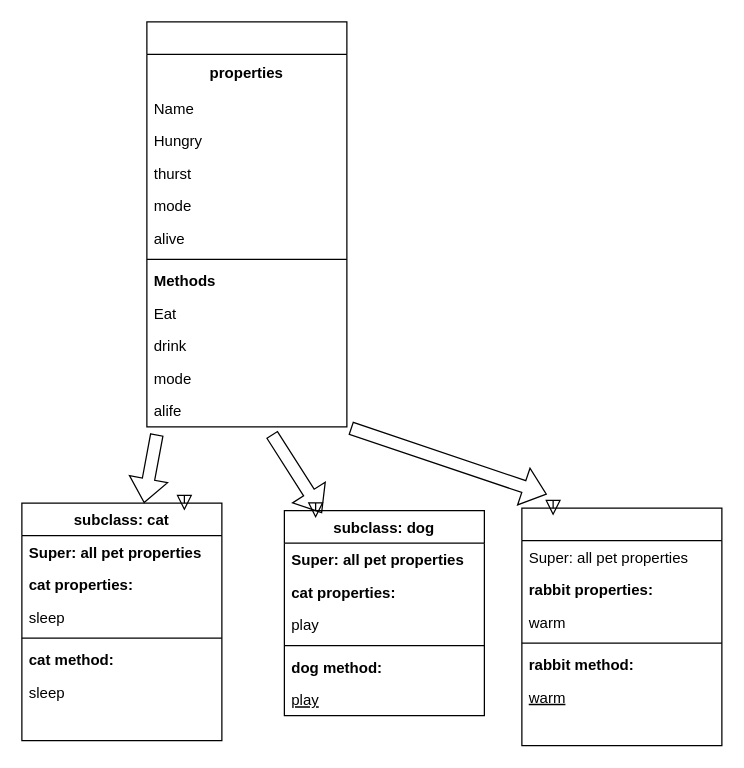
Some shapes in this 744 by 768 pixel diagram are drawn without their labels. The box of each missing label's shape, as (x1, y1, x2, y2) in pixels:
class: Pet: (146, 21, 347, 427)
subclass: rabbit: (521, 507, 722, 746)
